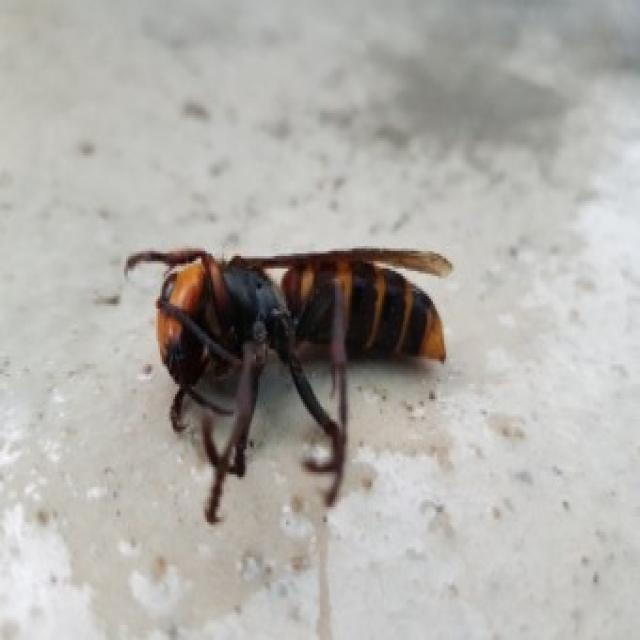Wasp: (126, 230, 456, 519)
